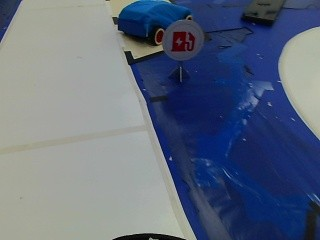battery: (166, 27, 202, 57)
